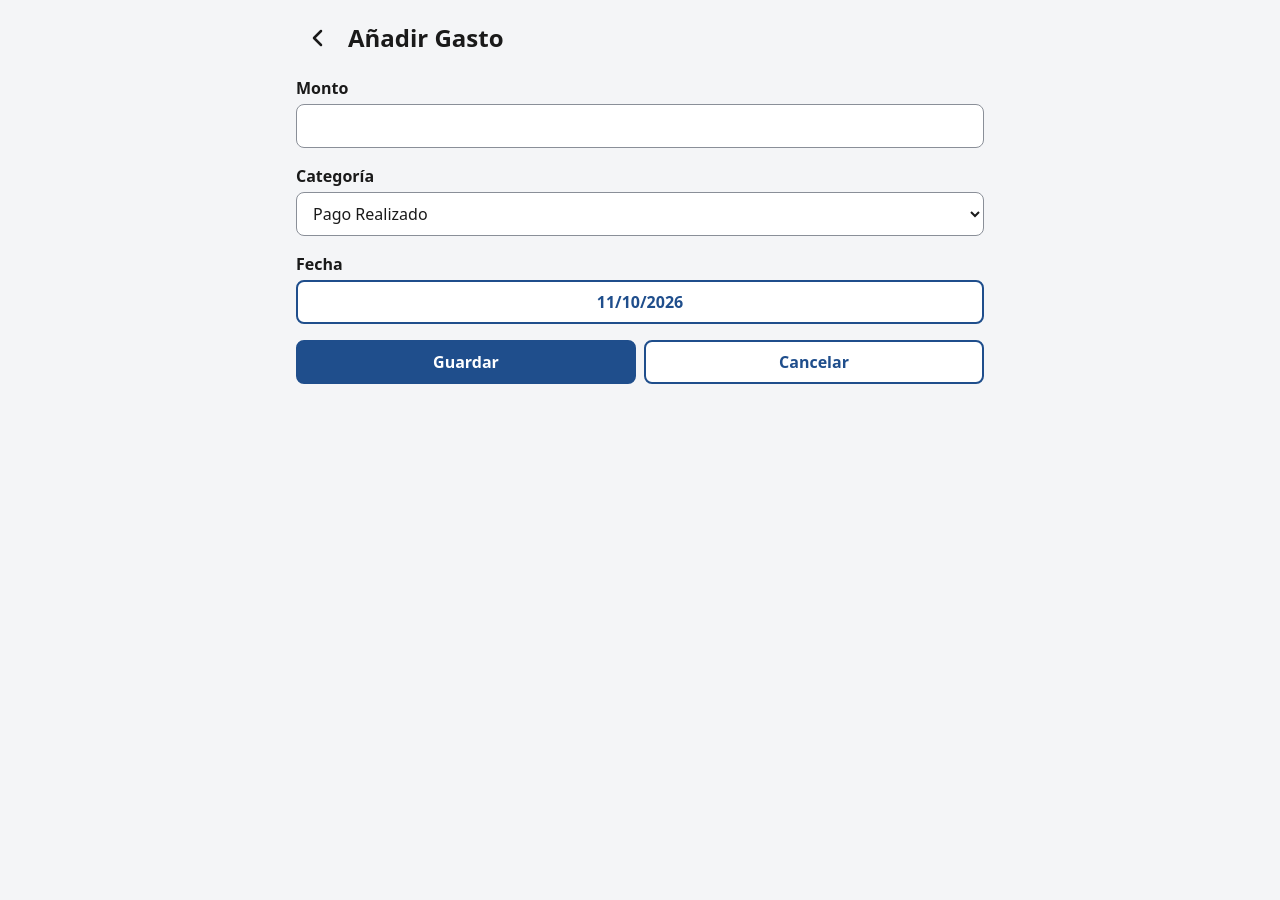
Test case: FormularioMovimiento en modo alta › con monto "0" muestra "El monto debe ser mayor a 0." y no guarda (AC-45)
Type "0" into the field labelled "Monto" at (640, 126), box 296,104 -> 984,148
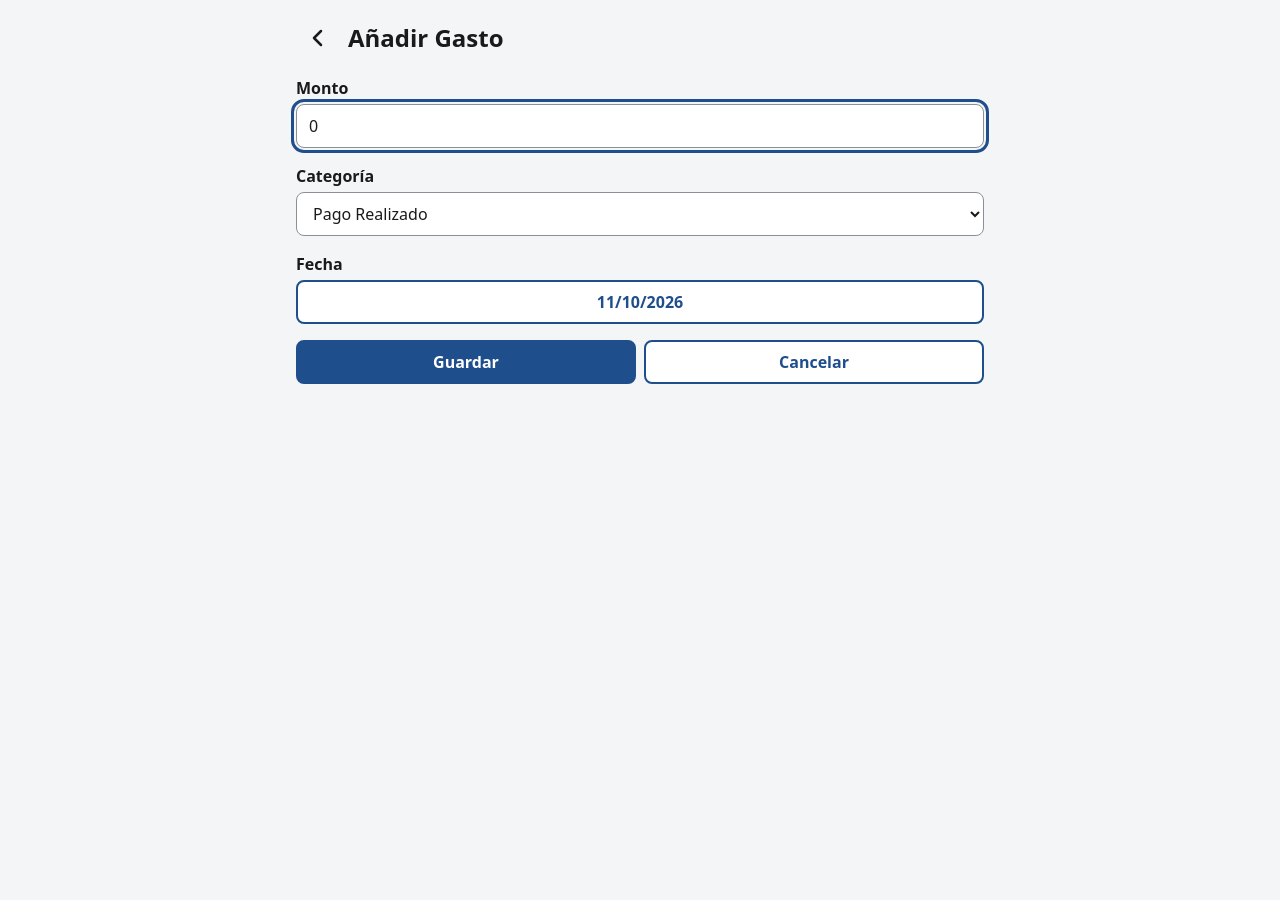
Click the button "Guardar" at (466, 362), box 296,340 -> 636,384
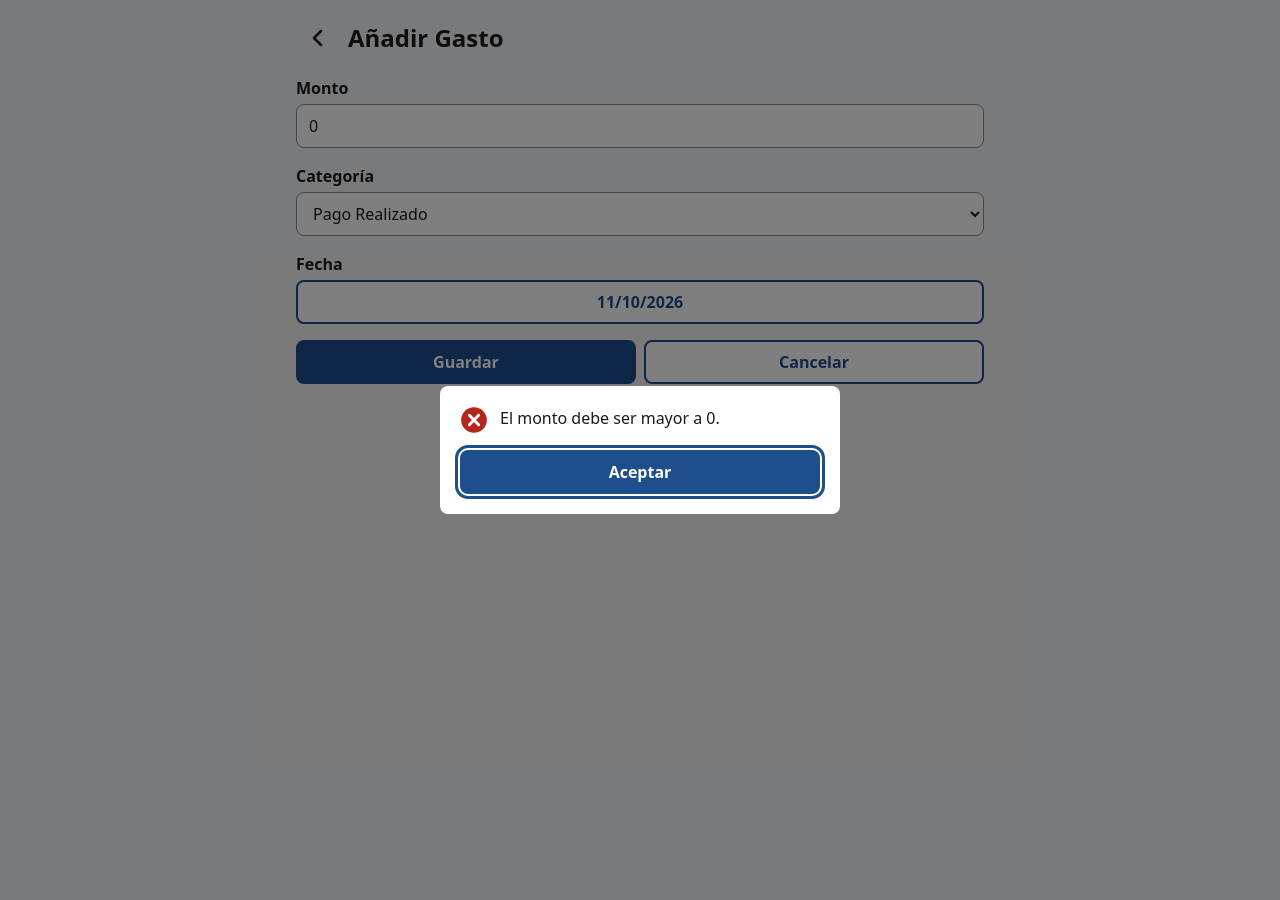
Expected: the text "El monto debe ser mayor a 0." is shown, 500,406 -> 720,430
Expected: the picture named "Error" is shown, 460,406 -> 488,434
